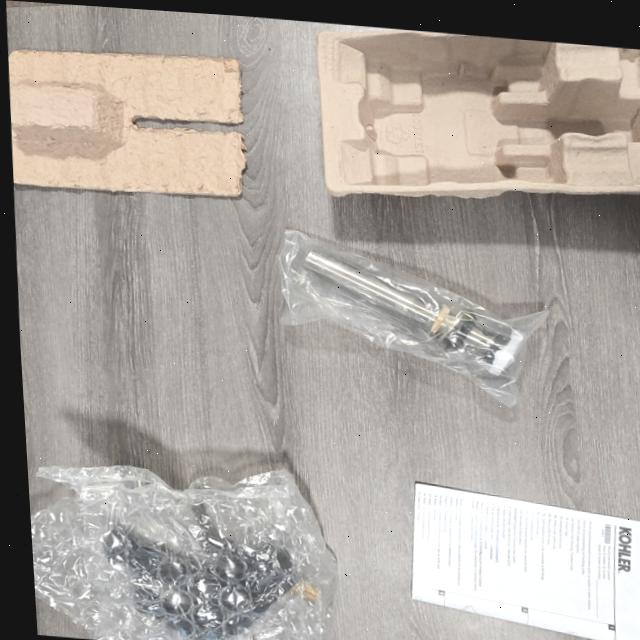11: (279, 231, 546, 404)
8: (411, 481, 640, 640)
9c: (31, 465, 336, 640)
